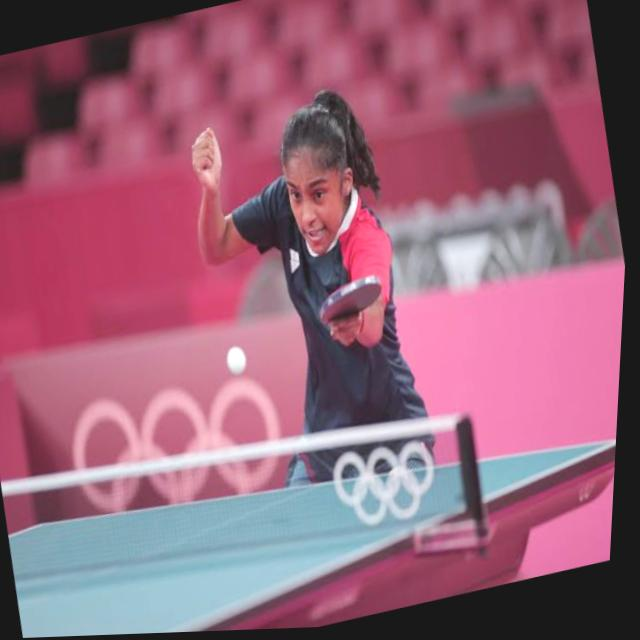TT Net: (1, 413, 483, 595)
TT Racket: (308, 262, 389, 334)
TT Table: (8, 440, 616, 638)
